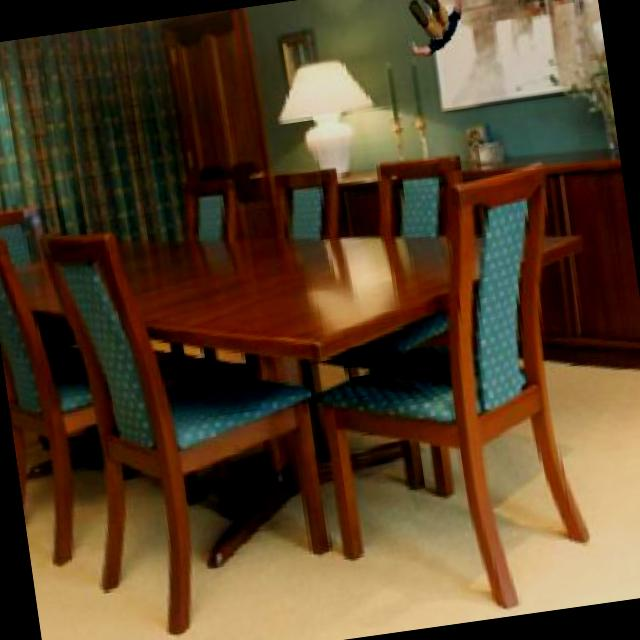Person: (398, 0, 473, 57)
